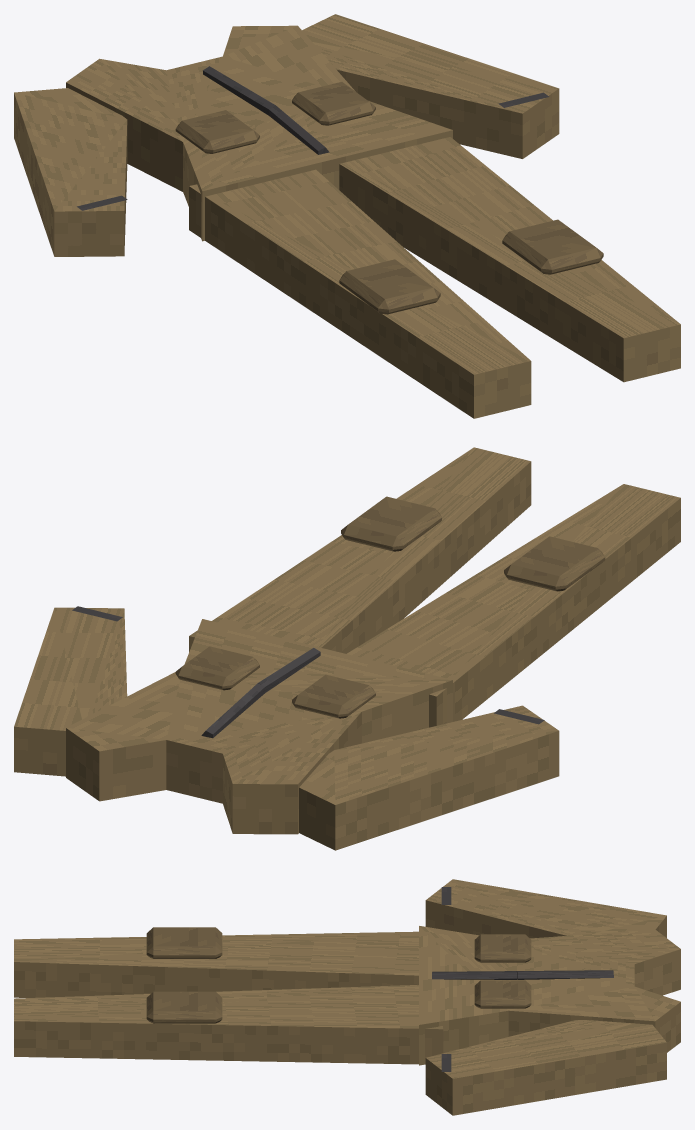
File: technician_coveralls_h.glb
The picture shows the model from 3 angles, top to bottom: view 1: azimuth 30°, elevation 25°; view 2: azimuth 150°, elevation 25°; view 3: azimuth 270°, elevation 25°; orthographic projection. The views are drawn at different scales.
Visible parts, largest first — view 1: block_integral trouser leg (×2), block_sleeve (×2), block_suit torso, block_padded canvas knee (×2), block_utility pocket (×2), block_sealed front zipper 0, block_sealed front zipper 1; view 2: block_integral trouser leg (×2), block_suit torso, block_sleeve (×2), block_padded canvas knee (×2), block_utility pocket (×2), block_sealed front zipper 0, block_sealed front zipper 1; view 3: block_integral trouser leg (×2), block_sleeve (×2), block_suit torso, block_padded canvas knee (×2), block_utility pocket (×2), block_sealed front zipper 0, block_sealed front zipper 1.
Part boxes in pixels (x1=…): block_integral trouser leg (×2): x1=189, y1=137, x2=680, y2=418; block_sleeve (×2): x1=14, y1=14, x2=559, y2=256; block_suit torso: x1=66, y1=25, x2=452, y2=241; block_padded canvas knee (×2): x1=339, y1=219, x2=603, y2=314; block_utility pocket (×2): x1=175, y1=82, x2=375, y2=153; block_sealed front zipper 0: x1=203, y1=66, x2=275, y2=115; block_sealed front zipper 1: x1=269, y1=106, x2=329, y2=154; block_integral trouser leg (×2): x1=189, y1=447, x2=680, y2=727; block_suit torso: x1=66, y1=619, x2=452, y2=834; block_sleeve (×2): x1=14, y1=607, x2=559, y2=850; block_padded canvas knee (×2): x1=341, y1=496, x2=605, y2=591; block_utility pocket (×2): x1=175, y1=646, x2=375, y2=718; block_sealed front zipper 0: x1=201, y1=683, x2=264, y2=738; block_sealed front zipper 1: x1=258, y1=648, x2=320, y2=692; block_integral trouser leg (×2): x1=14, y1=931, x2=443, y2=1064; block_sleeve (×2): x1=425, y1=879, x2=666, y2=1115; block_suit torso: x1=419, y1=926, x2=680, y2=1065; block_padded canvas knee (×2): x1=146, y1=927, x2=222, y2=1023; block_utility pocket (×2): x1=474, y1=934, x2=531, y2=1008; block_sealed front zipper 0: x1=517, y1=970, x2=613, y2=979; block_sealed front zipper 1: x1=432, y1=971, x2=517, y2=979.
Size of the model in its own units: 0.4838 by 0.0563 by 0.6829.
1 material, 1 textured.
